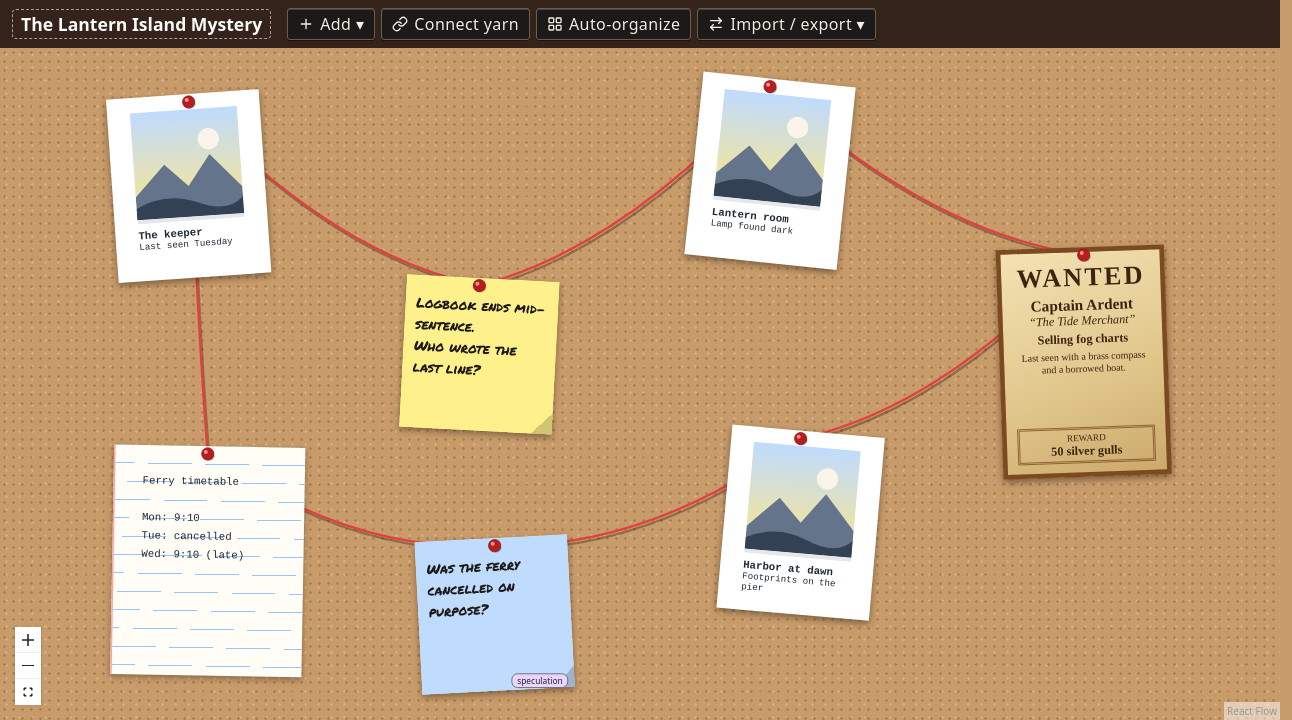
Test case: focus, notices and keyboard edge cases › Escape then blur does not save the cancelled title
Click the button with aria-label "Board title". click: (142, 24)
box: x1=12 y1=9 x2=271 y2=39
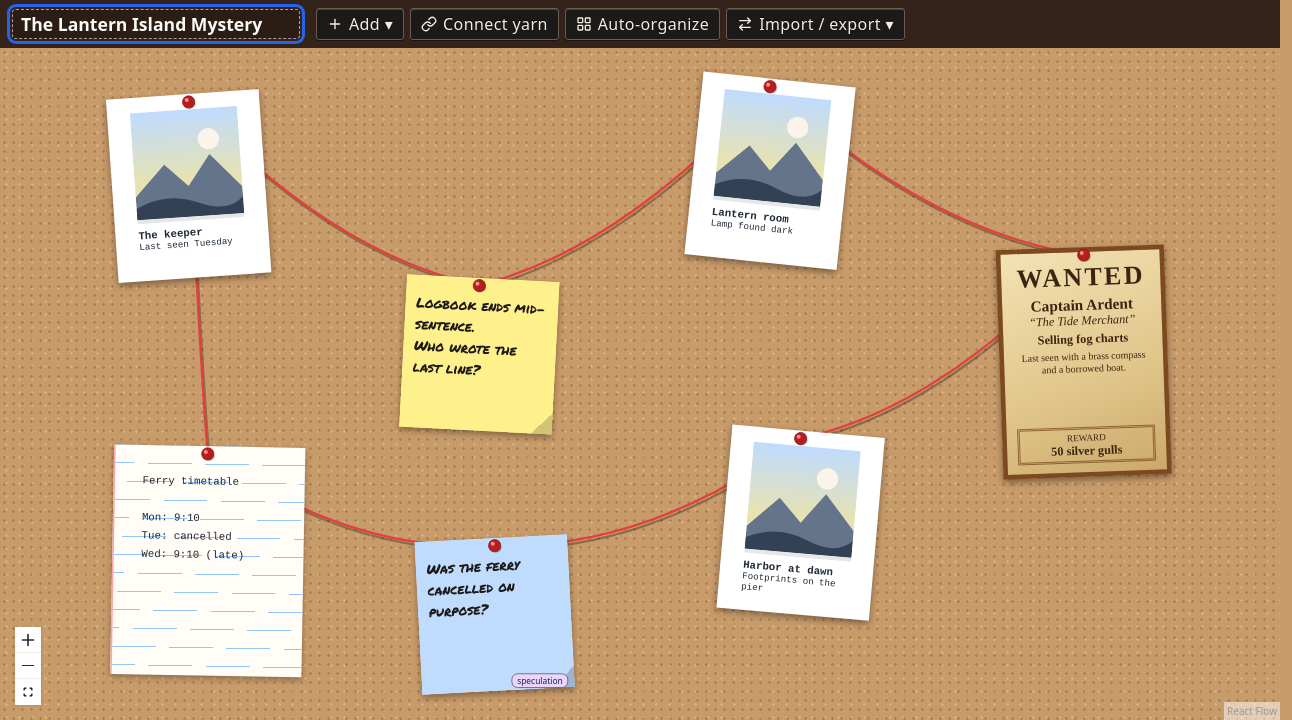
Replace the text in the field named "Board title" with "Cancelled". click: (156, 24)
box: x1=12 y1=9 x2=300 y2=39
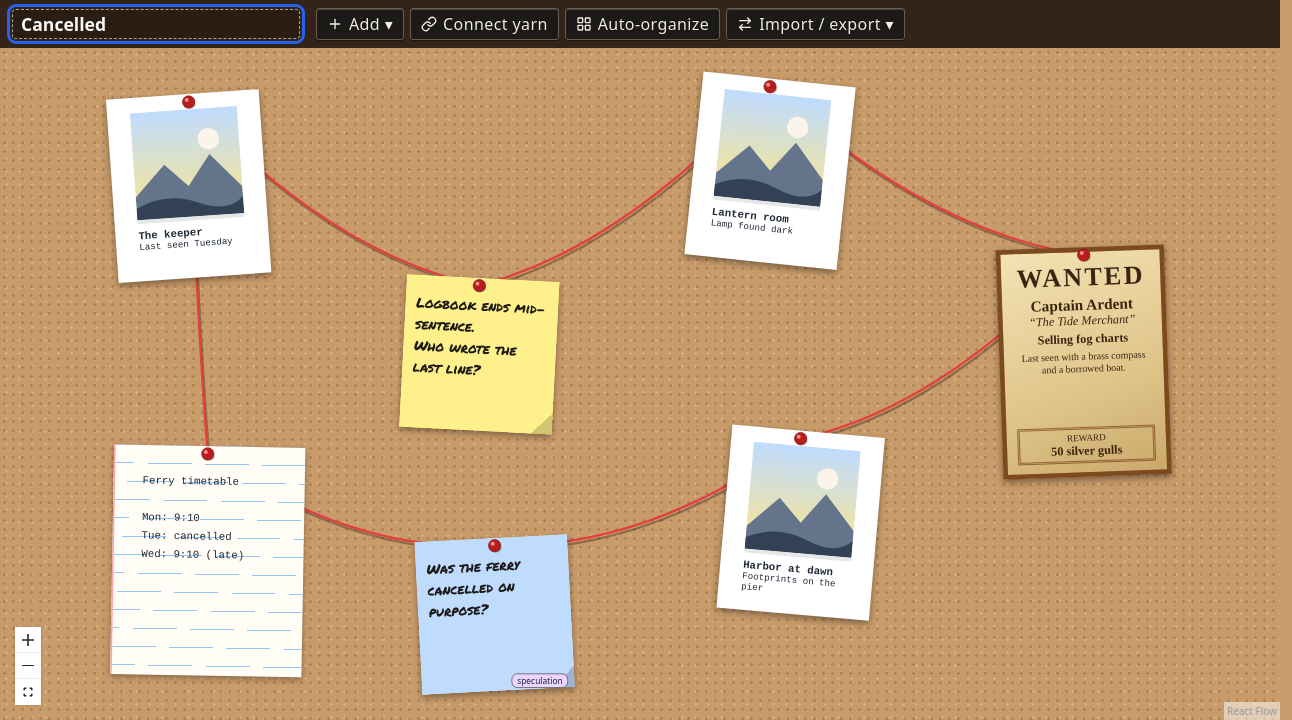
Press Escape in the field named "Board title", box x1=12 y1=9 x2=300 y2=39
Leave the field named "Board title", box x1=12 y1=9 x2=300 y2=39
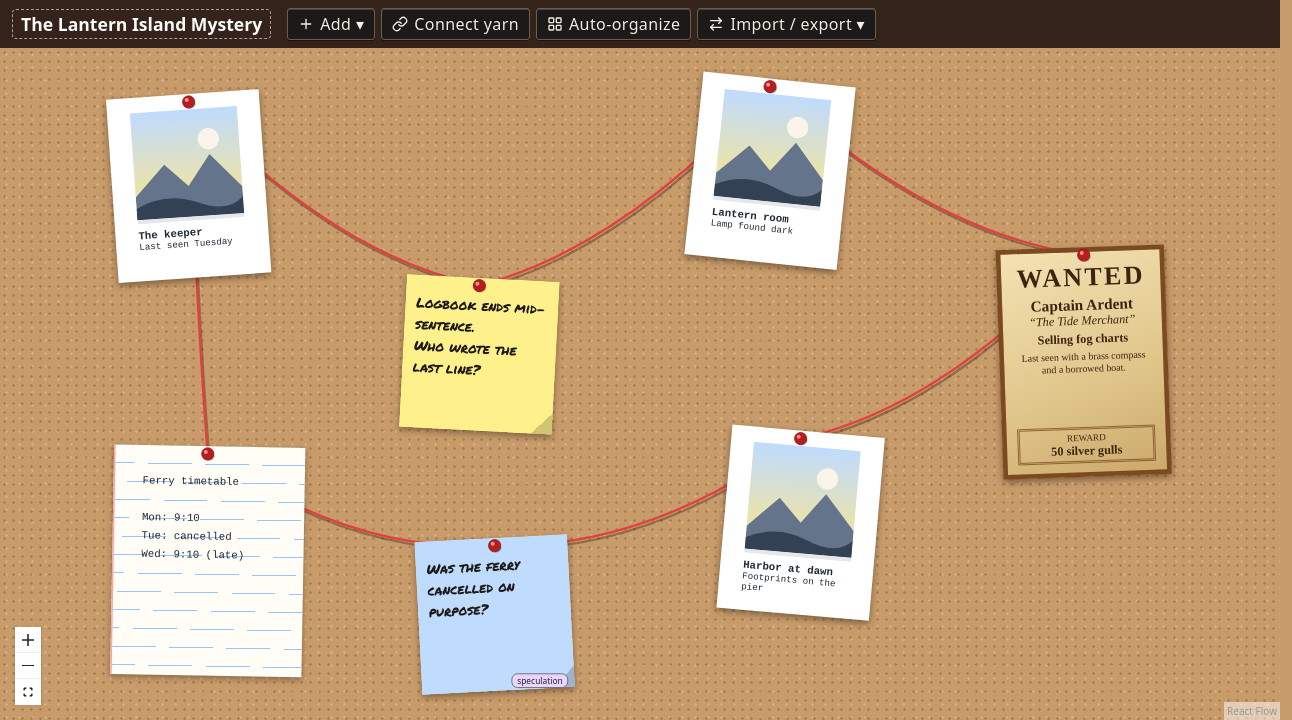
Now the button "The Lantern Island Mystery" is shown, box x1=12 y1=9 x2=271 y2=39
